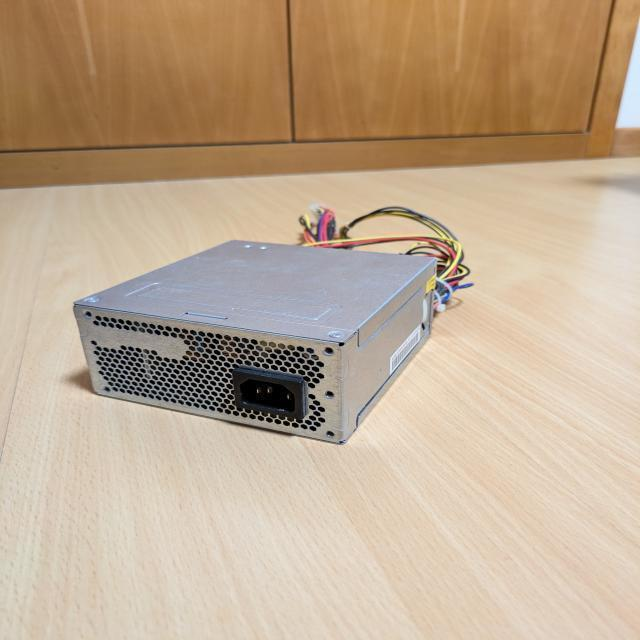PSU: (73, 238, 438, 446)
